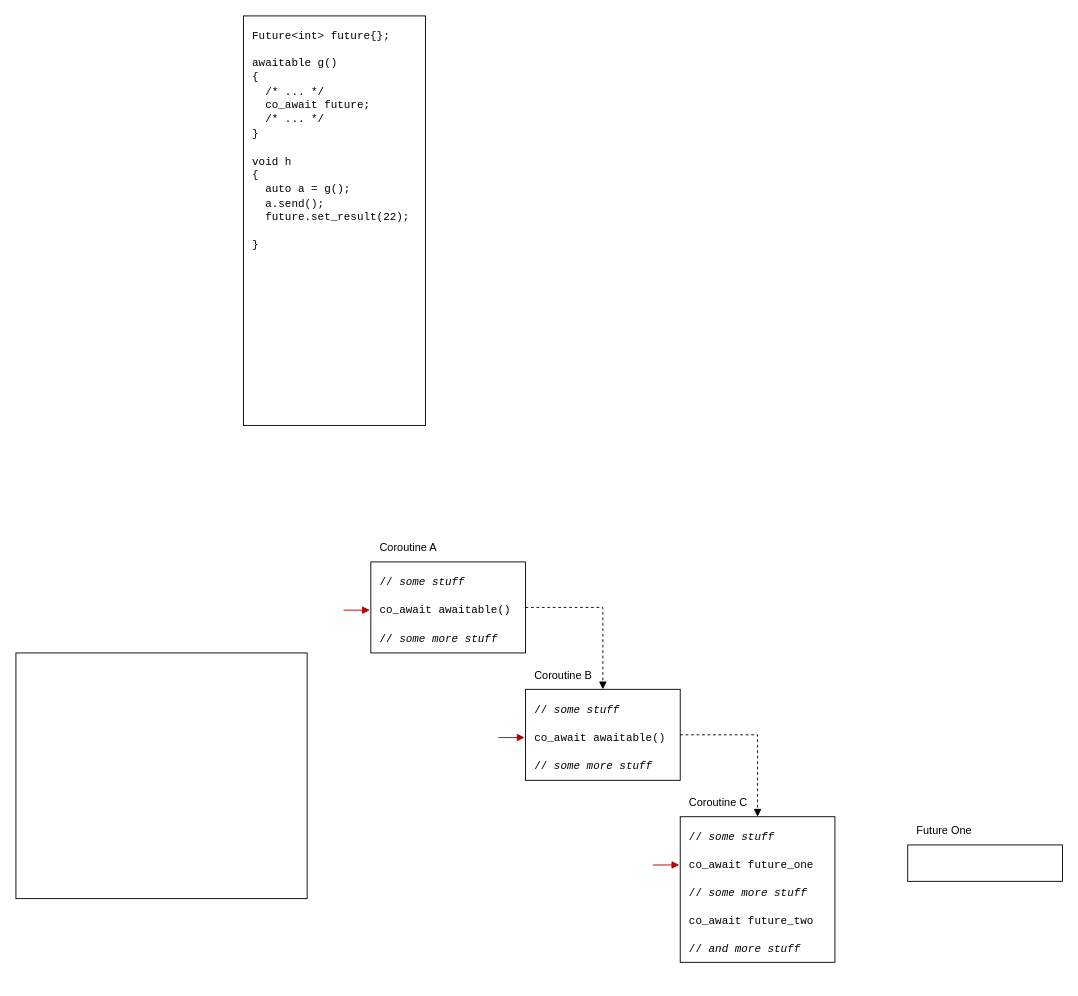
This 1078x996 diagram has some shape labels left out. The shapes that lost their labels are listed below. From the top down, each one's centre as x and y in pixels, then its label:
point (161, 775): // handle referring to Coroutine A std::coroutine_handle<P> h
point (984, 862): done == false
